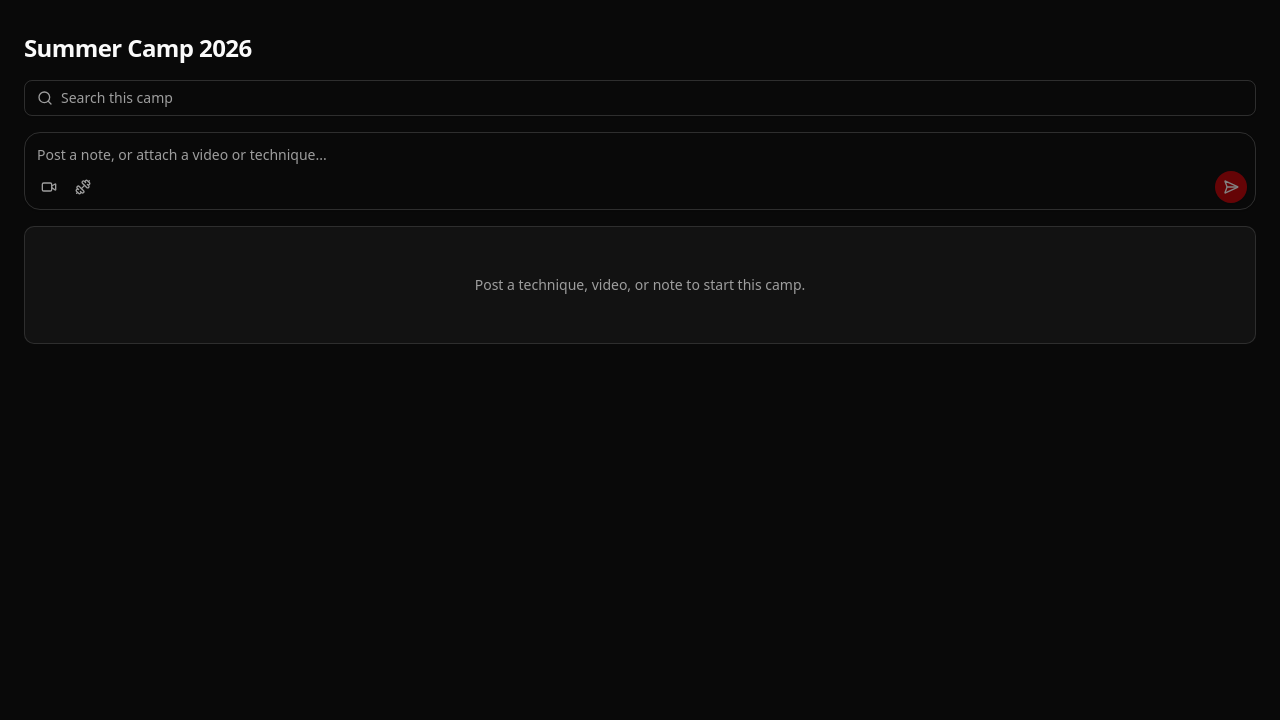
CampDetailPage components › student picker shows only Pick existing, no Create new tab
The width and height of the screenshot is (1280, 720).
Click the button named "attach technique" at (83, 187), box 67,171 -> 99,203
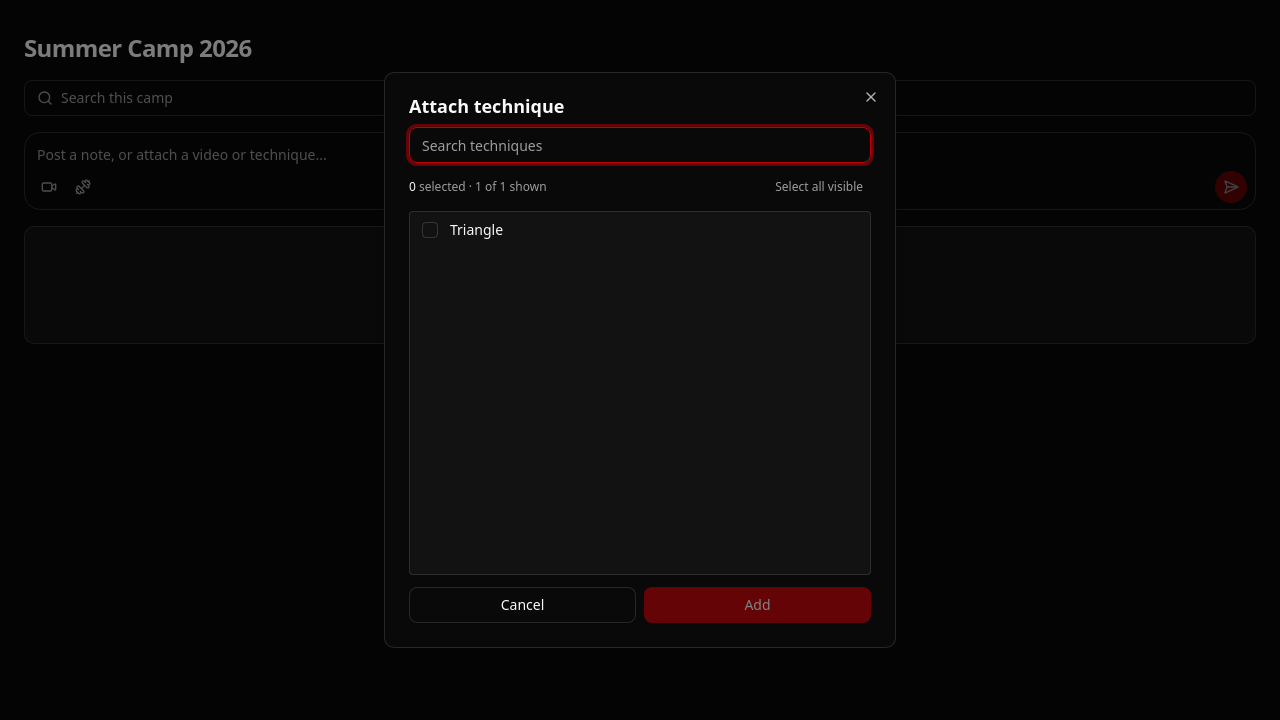
Check: the dialog is shown, box 384,72 -> 896,648
